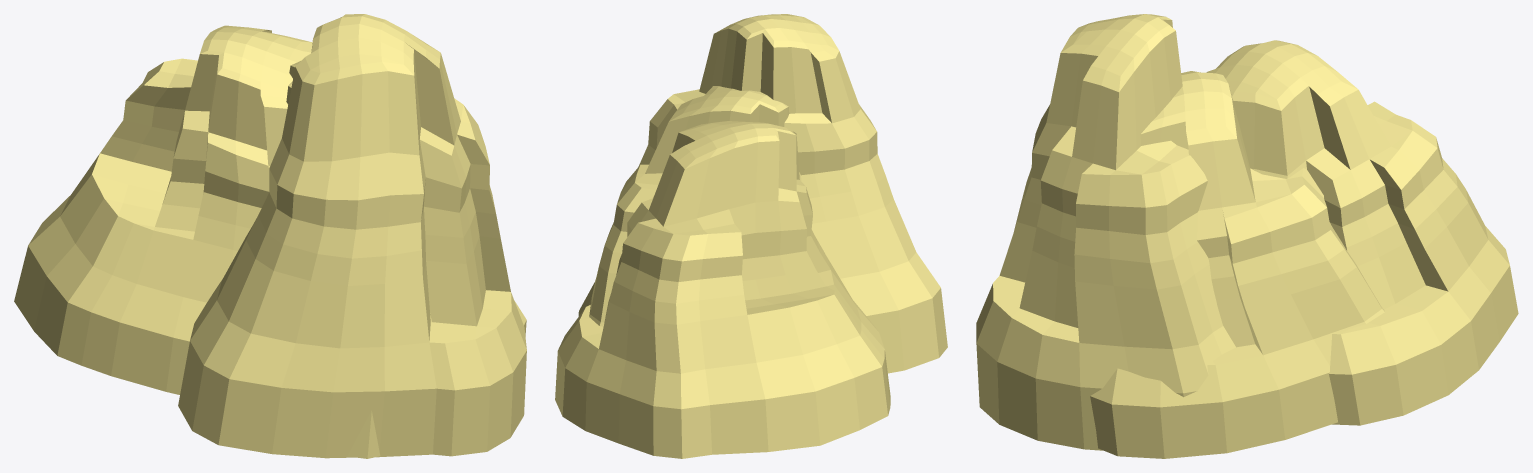
File: BigRock04.fbx
3 views of the same model, side by side, from view 1: azimuth 30°, elevation 25°; view 2: azimuth 150°, elevation 25°; view 3: azimuth 270°, elevation 25° (orthographic). The views are drawn at different scales.
Visible parts, largest first — view 1: Plane.064; view 2: Plane.064; view 3: Plane.064.
Part boxes in pixels (box(x1,y1,x2,y2)): Plane.064: box(14, 14, 526, 458); Plane.064: box(555, 14, 947, 458); Plane.064: box(976, 14, 1518, 458).
Bounding box in the file's own units: 3940 × 3768 × 5020.
